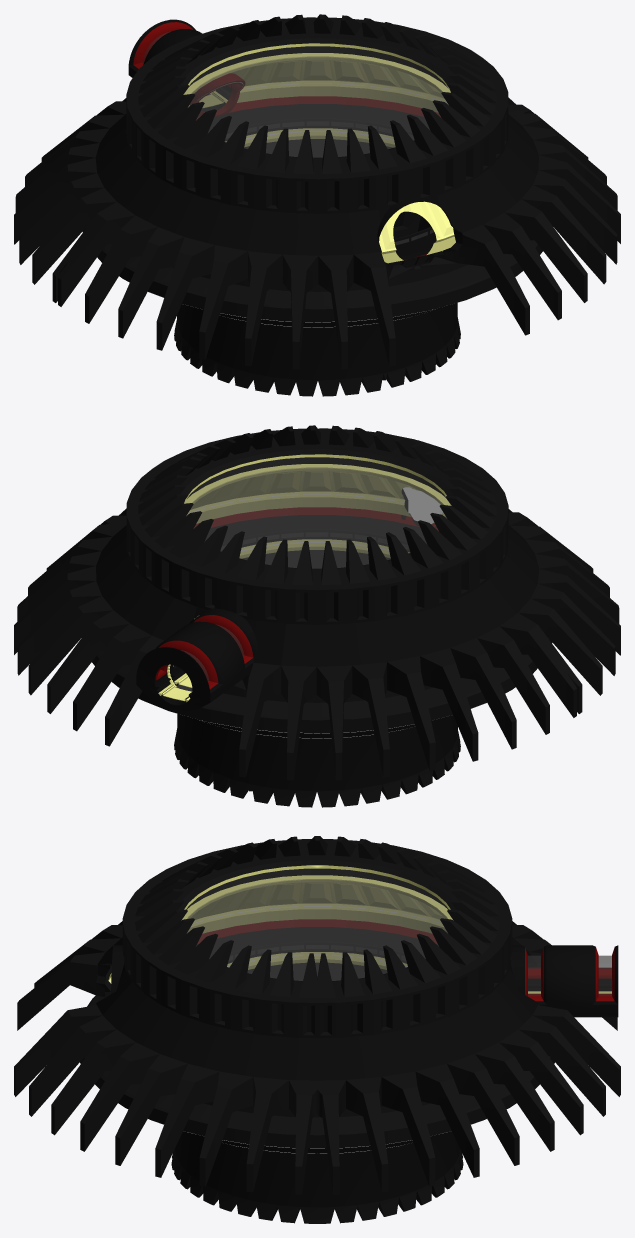
File: Sala01.FBX
3 views of the same model, one above another, from view 1: azimuth 30°, elevation 25°; view 2: azimuth 150°, elevation 25°; view 3: azimuth 270°, elevation 25° (orthographic).
Parts seen in each view (by area): view 1: Sala01, Crystal, Cylinder002; view 2: Sala01, Crystal, Cylinder002; view 3: Sala01, Crystal, Cylinder002.
Part boxes in pixels (box(x1,y1,x2,y2)): Sala01: box(14, 14, 620, 396); Crystal: box(184, 46, 450, 157); Cylinder002: box(128, 19, 245, 116); Sala01: box(14, 425, 620, 807); Crystal: box(184, 457, 450, 568); Cylinder002: box(136, 612, 255, 711); Sala01: box(14, 836, 620, 1223); Crystal: box(182, 869, 452, 980); Cylinder002: box(522, 945, 618, 1017).
Bounding box in the file's own units: 63.23 × 30.4 × 62.8.
